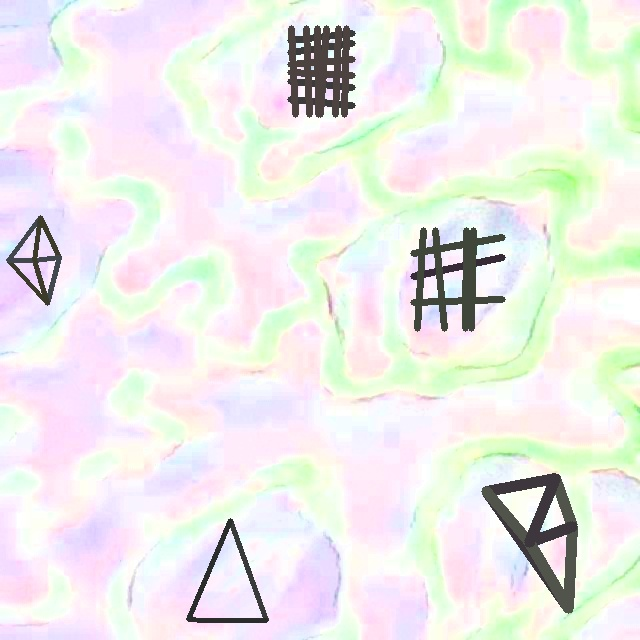open: (481, 473, 577, 612), (410, 227, 505, 331), (186, 519, 268, 622), (288, 25, 354, 116), (6, 215, 61, 305)
